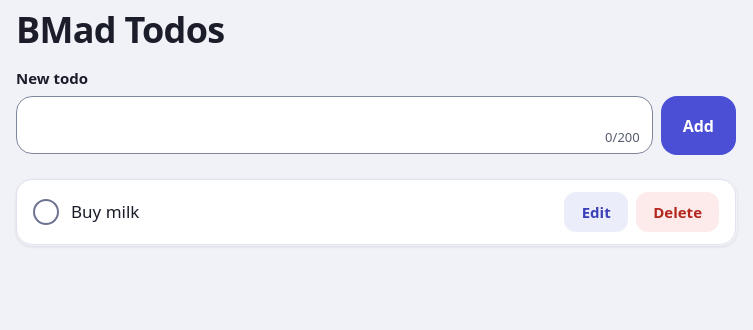
Test: EditForm › K3 Cancel discards the draft, shows the saved text, focuses Edit and sends nothing
The width and height of the screenshot is (753, 330).
Click the button with aria-label "Edit “Buy milk”" at x=596, y=212, box left=564, top=192, right=628, bottom=232
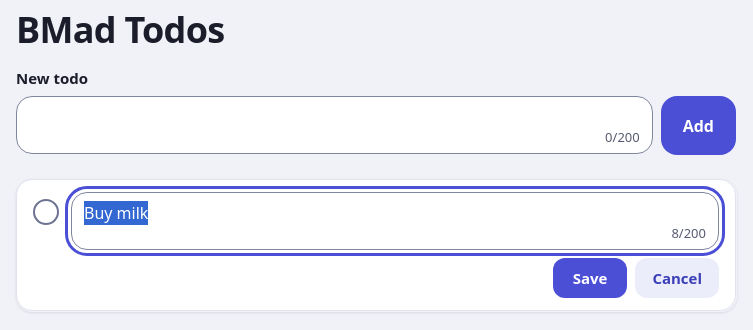
Type keys "Something else"
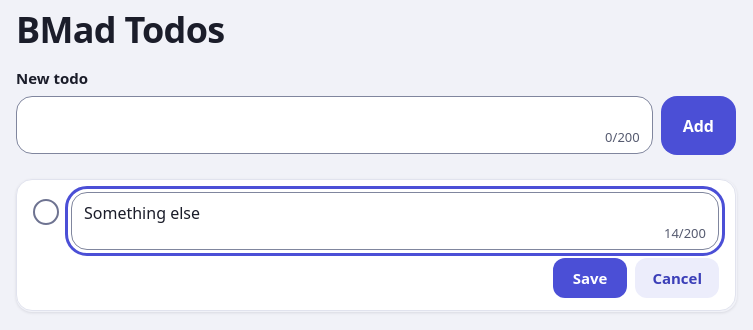
Click the button "Cancel" at x=677, y=278, box left=635, top=258, right=719, bottom=298
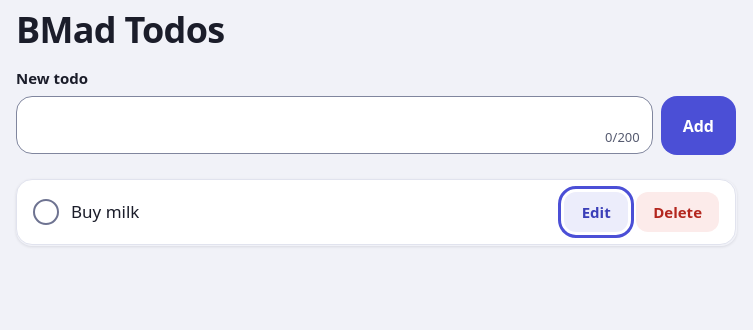
Expected: the field labelled "Edit description" is not shown
Expected: the text "Buy milk" is shown, left=71, top=200, right=139, bottom=223
Click the button with aria-label "Edit “Buy milk”" at x=596, y=212, box left=564, top=192, right=628, bottom=232
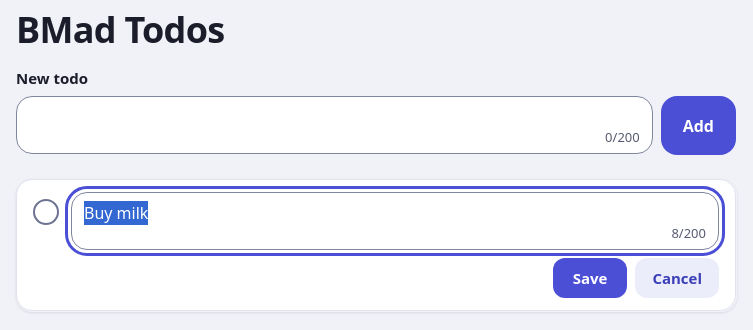
Expected: the text box named "Edit description" holds "Buy milk", left=72, top=193, right=718, bottom=225
